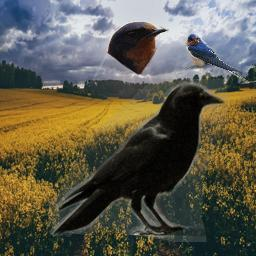Crow: (49, 79, 227, 242)
Swallow: (106, 20, 169, 75), (185, 33, 250, 84)
